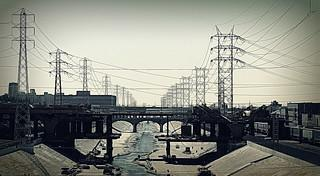power_tower: (205, 22, 249, 114), (9, 6, 37, 93), (49, 46, 72, 99), (193, 62, 208, 107), (78, 54, 92, 93)
